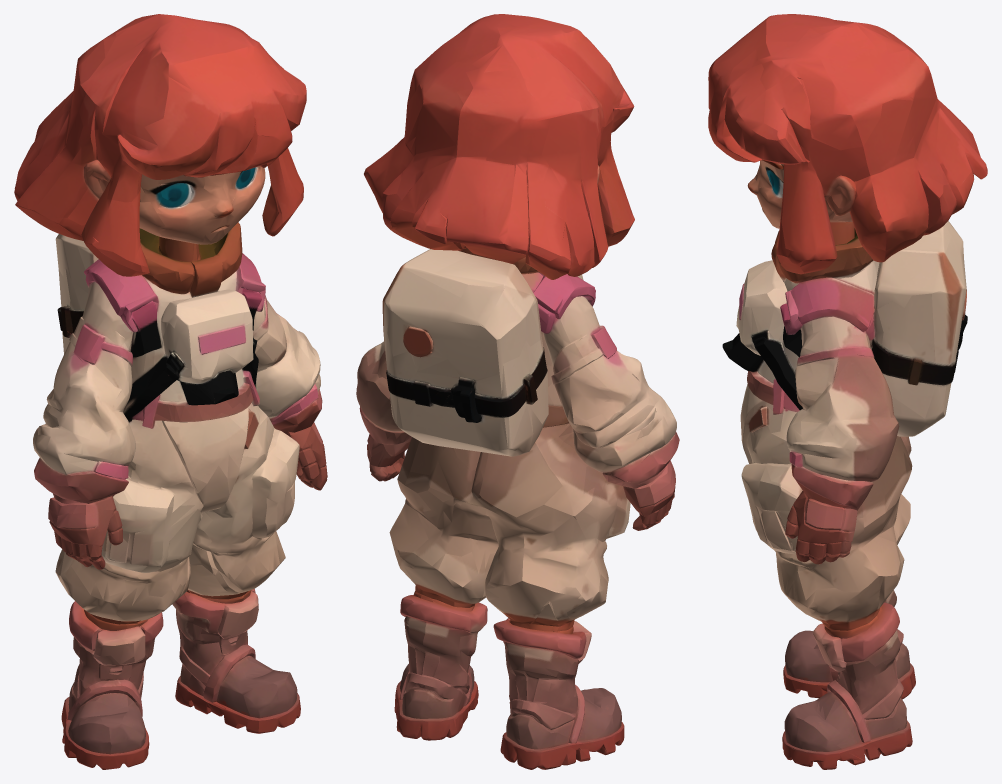
File: A1-paint-suit_remesh30k.glb
3 renders of one model, left to right at view 1: azimuth 30°, elevation 25°; view 2: azimuth 150°, elevation 25°; view 3: azimuth 270°, elevation 25°, orthographic. The views are drawn at different scales.
Visible parts, largest first — view 1: output_unwrapped; view 2: output_unwrapped; view 3: output_unwrapped.
Boxes of the visible parts, x1,y1,x2,y2 form: output_unwrapped: [14, 14, 327, 769]; output_unwrapped: [356, 14, 679, 769]; output_unwrapped: [708, 14, 987, 769].
Size of the model in its own units: 0.8247 by 1.9 by 0.6947.
1 material, 1 textured.
